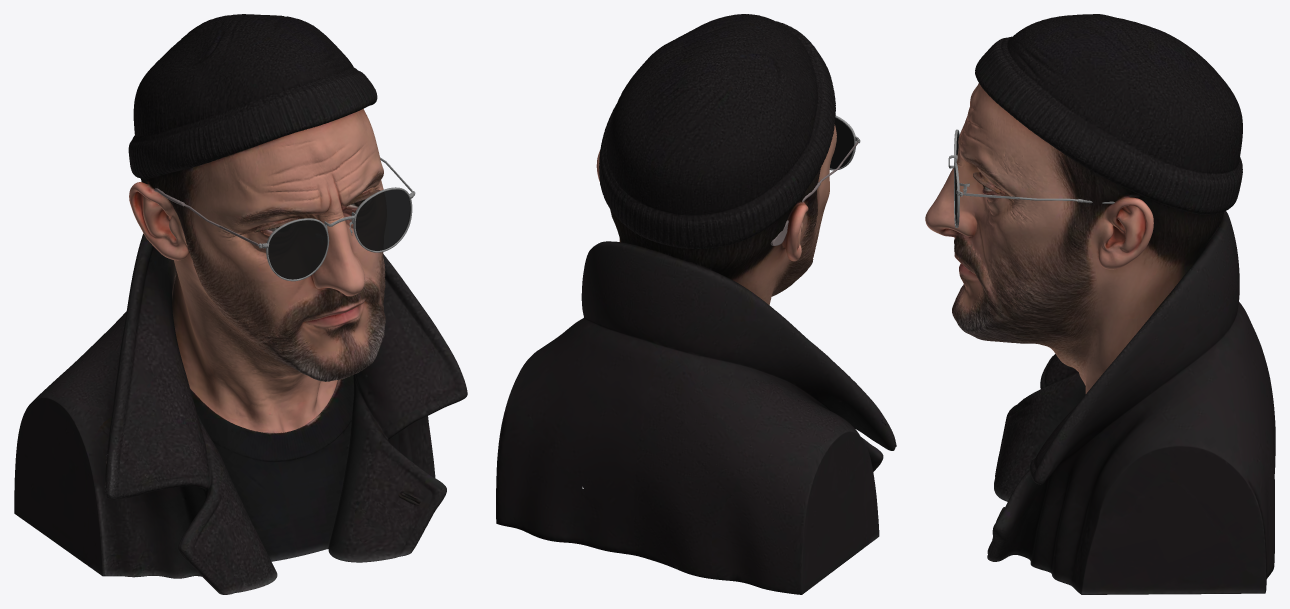
File: oprofissional.glb
3 views of the same model, side by side, from view 1: azimuth 30°, elevation 25°; view 2: azimuth 150°, elevation 25°; view 3: azimuth 270°, elevation 25° (orthographic). The views are drawn at different scales.
Visible parts, largest first — view 1: Object_20, Object_7, Object_5; view 2: Object_20, Object_7; view 3: Object_20, Object_5.
Part boxes in pixels (bbox=[...]): Object_20: bbox=[14, 14, 467, 594]; Object_7: bbox=[268, 189, 410, 279]; Object_5: bbox=[258, 157, 415, 281]; Object_20: bbox=[496, 14, 896, 594]; Object_7: bbox=[830, 117, 853, 168]; Object_20: bbox=[925, 14, 1275, 594]; Object_5: bbox=[948, 129, 1114, 227].
Bounding box in the file's own units: 0.6984 × 0.9906 × 0.6357.
Materials: 5 (2 with a texture image).
